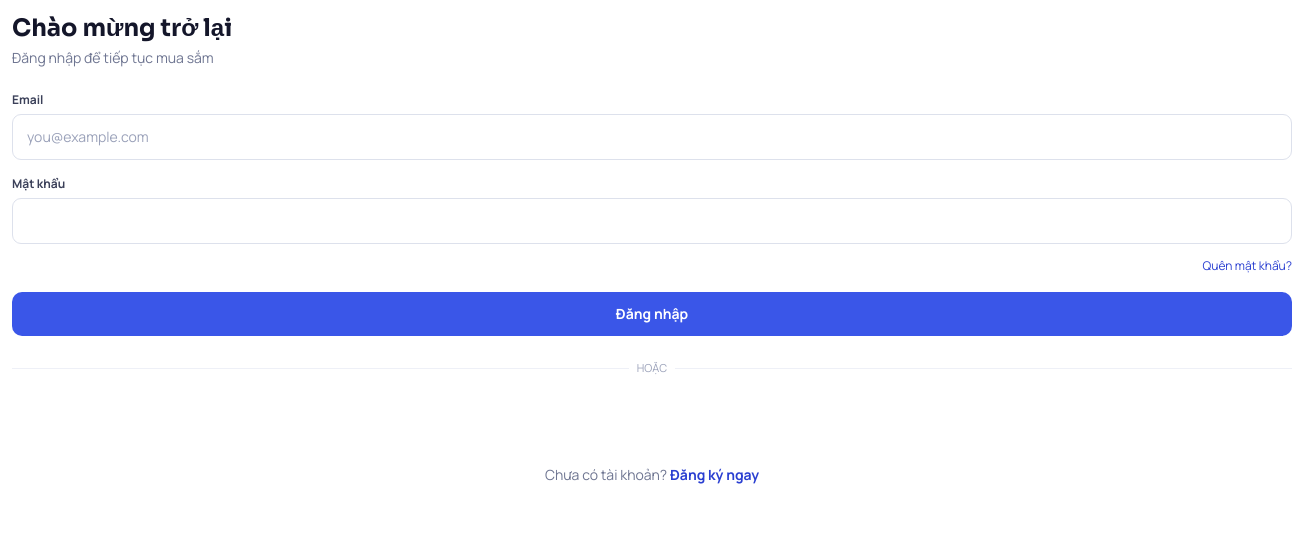
it: LoginForm › shows validation errors when submitting an empty form
This screenshot has width=1304, height=545.
Click the button "Đăng nhập": (652, 314) [12, 292, 1292, 336]
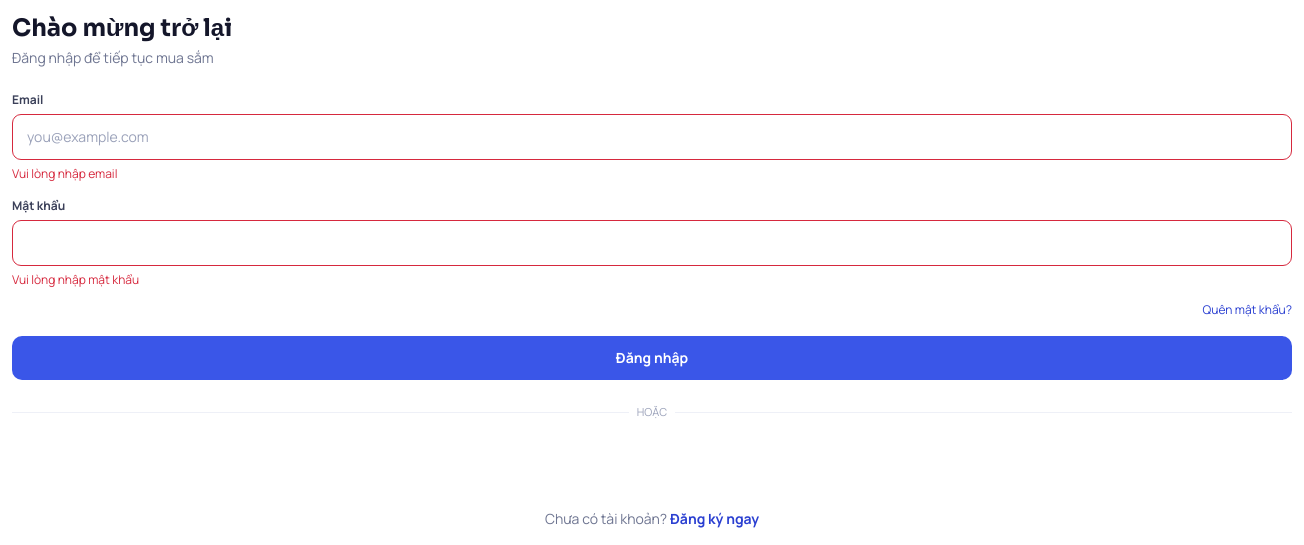
expect the text "Vui lòng nhập email" is shown: met, box [12, 165, 118, 182]
expect the text "Vui lòng nhập mật khẩu" is shown: met, box [12, 271, 139, 288]
